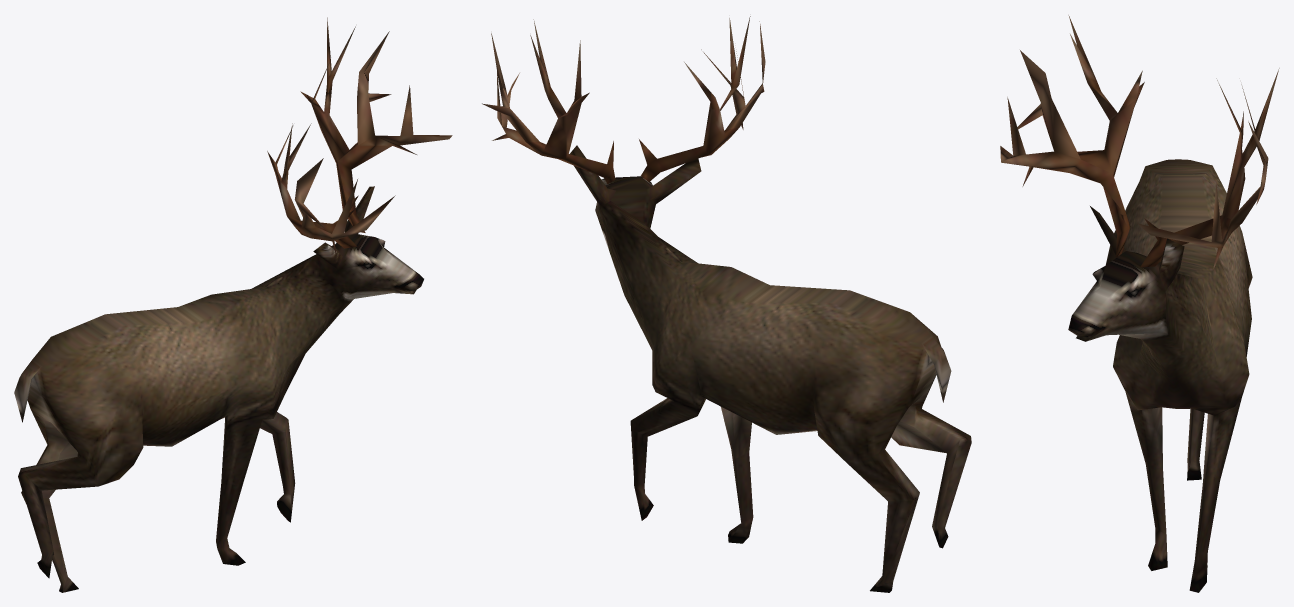
The model's file is static.ico.obj.
3 renders of one model, left to right at view 1: azimuth 30°, elevation 25°; view 2: azimuth 150°, elevation 25°; view 3: azimuth 270°, elevation 25°, orthographic. The views are drawn at different scales.
Size of the model in its own units: 4.41 by 4.67 by 2.02.
Materials: 1 (1 with a texture image).
